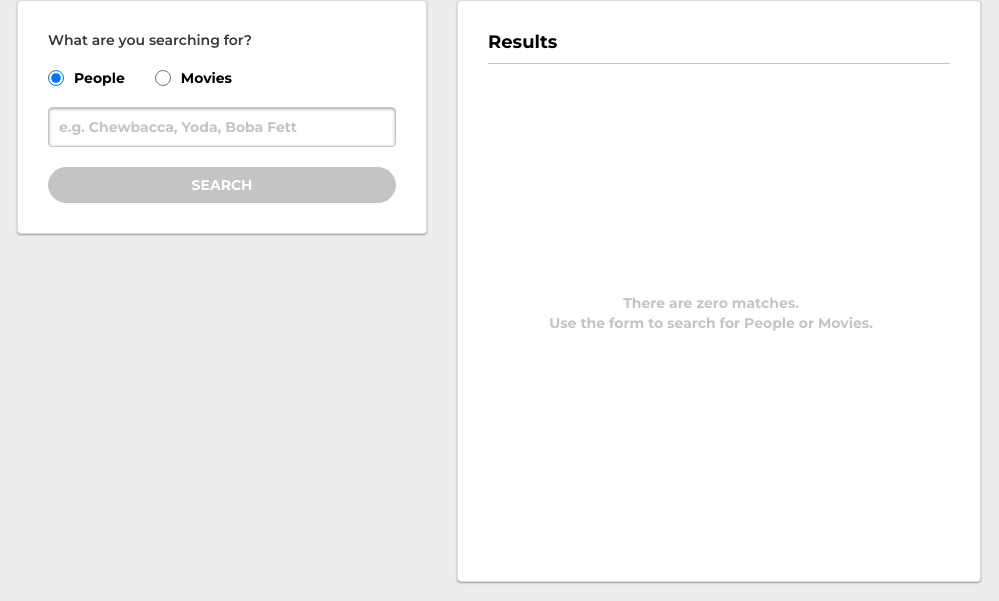
Test: Home › should show loading state when search button is clicked
The width and height of the screenshot is (999, 601).
expect the button "SEARCH" is disabled: met, box [48,167,396,203]
Step 1. Type "test" into the field → point(222, 127), box [48,107,396,147]
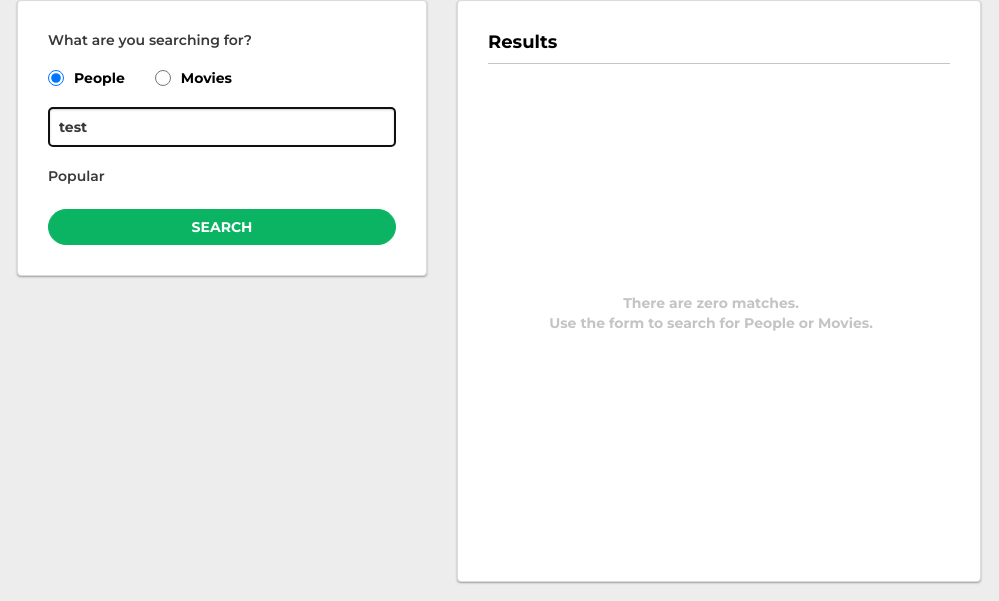
expect the button "SEARCH" is enabled: met
Step 2. Click the button "SEARCH" → point(222, 227), box [48,209,396,245]
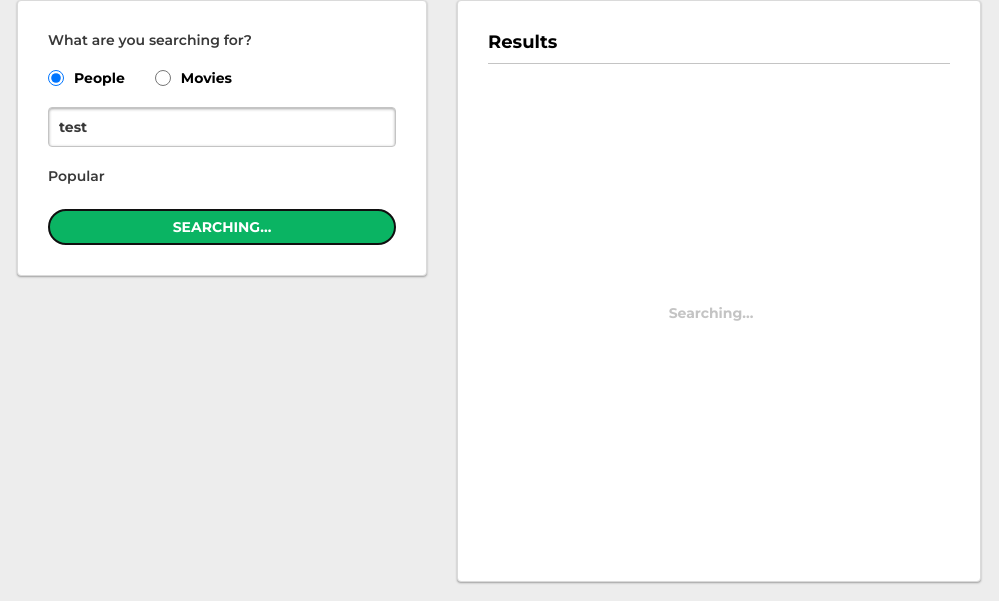
expect the button "SEARCHING..." is shown: met, box [48,209,396,245]
